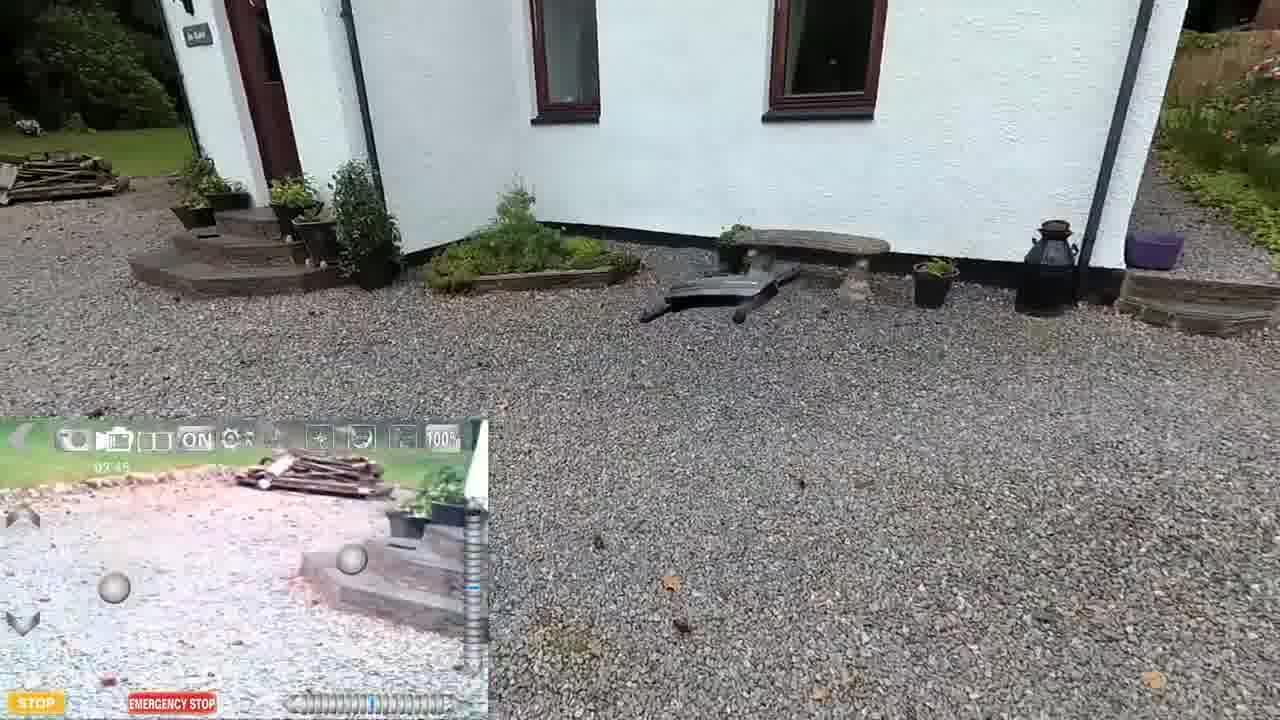drone: (633, 253, 833, 339)
